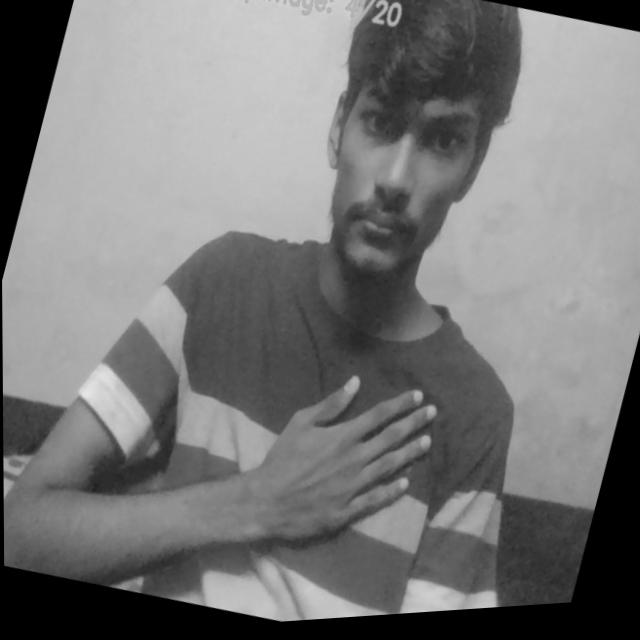Please: (233, 347, 448, 590)
